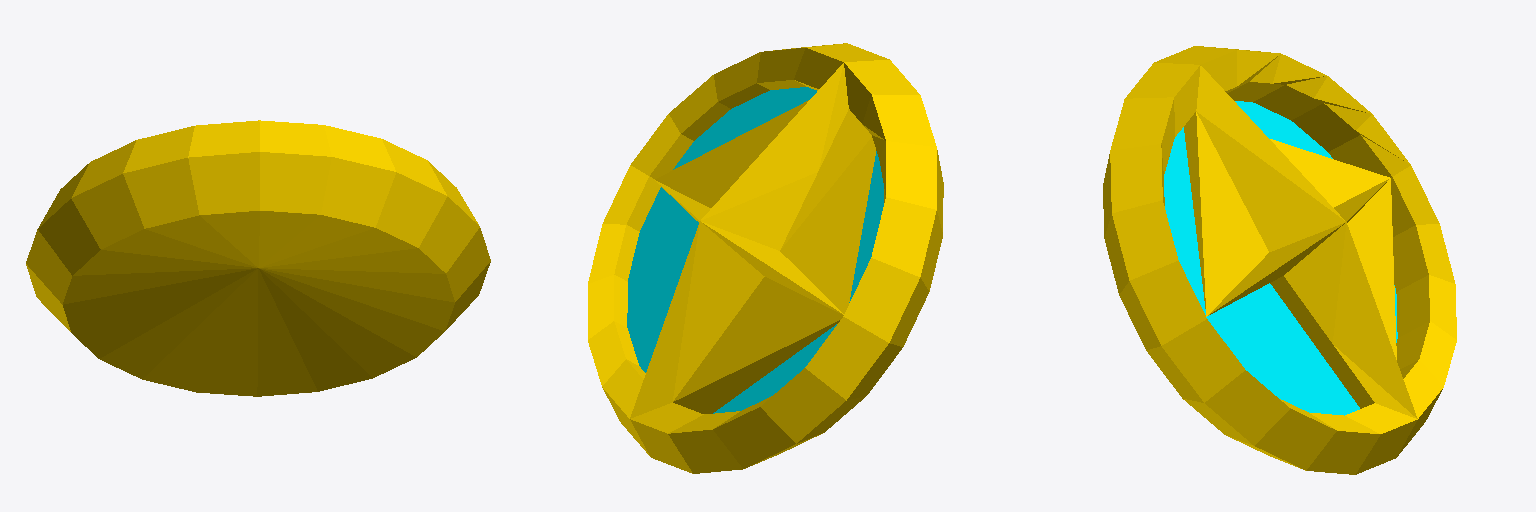
Rendered from coin1.obj.
3 renders of one model, left to right at view 1: azimuth 30°, elevation 25°; view 2: azimuth 150°, elevation 25°; view 3: azimuth 270°, elevation 25°, orthographic.
Bounding box in the file's own units: 0.3662 × 0.3274 × 0.303.